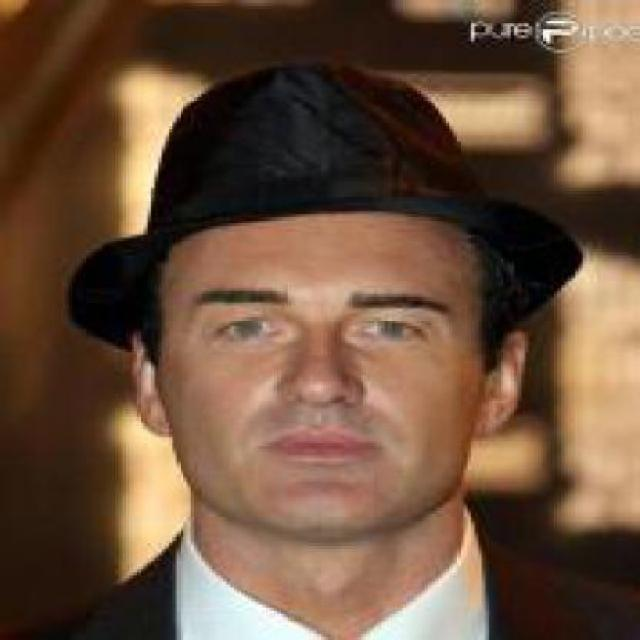closed-mouth: (256, 422, 382, 468)
